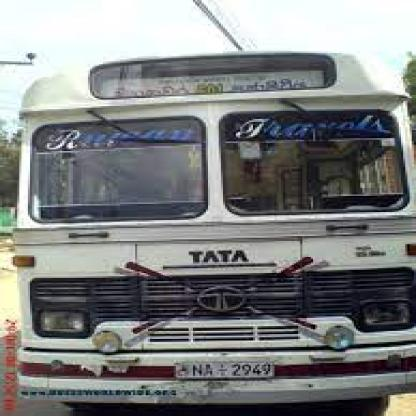bus front: (12, 43, 416, 402)
number plate: (187, 360, 279, 380)
